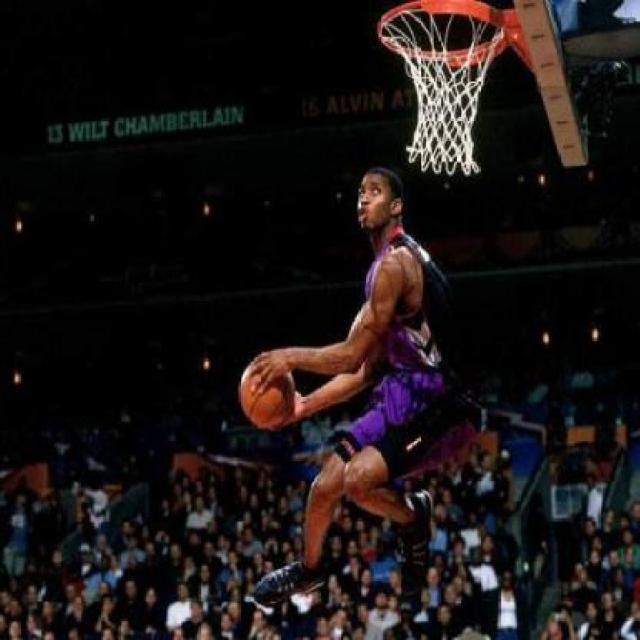basketball: (236, 358, 296, 432)
rim: (377, 0, 509, 172)
